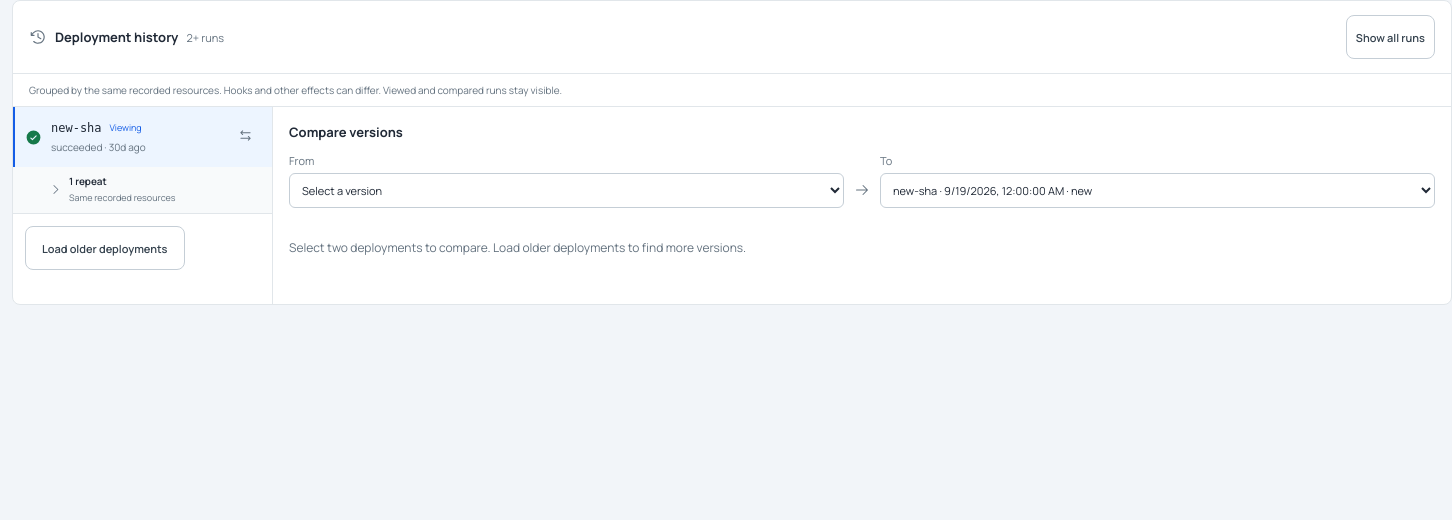
Test: merges repeats across page boundaries and expands each group or all runs without losing raw selectors
expect the link "repeat-1" is not shown: met
Click the button "Load older deployments" at point(105, 248), box [25, 226, 184, 270]
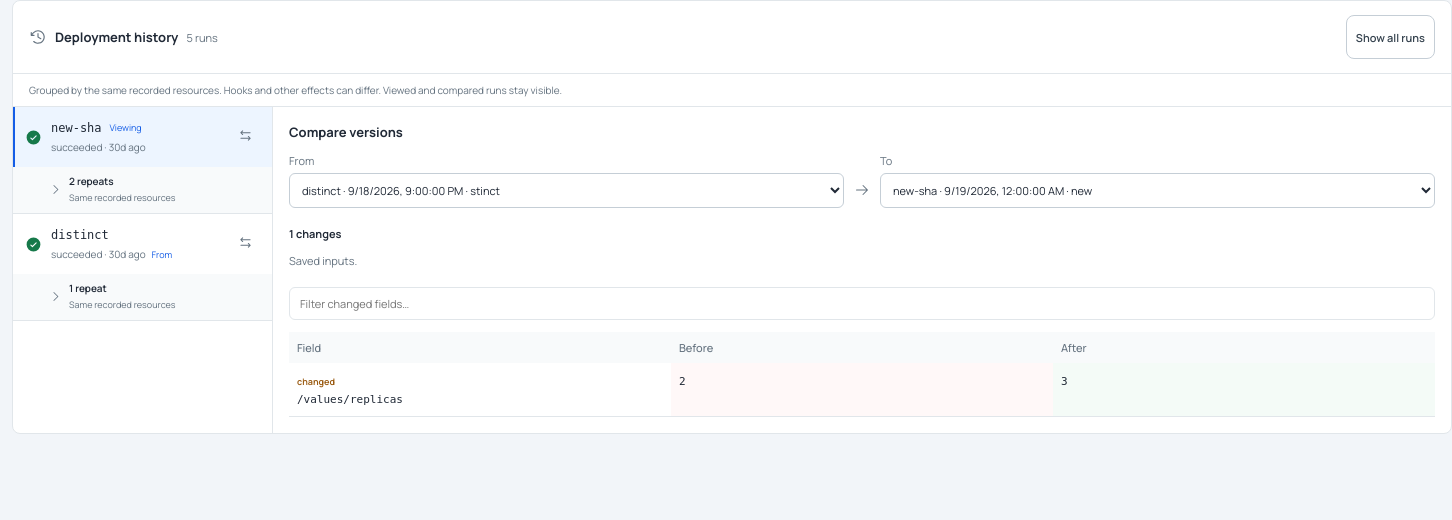
expect the link "repeat-2" is not shown: met
expect the button with aria-label "Show 2 repeats for deployment new" is shown: met
Click the button with aria-label "Show 2 repeats for deployment new" at point(142, 190), box [13, 167, 272, 213]
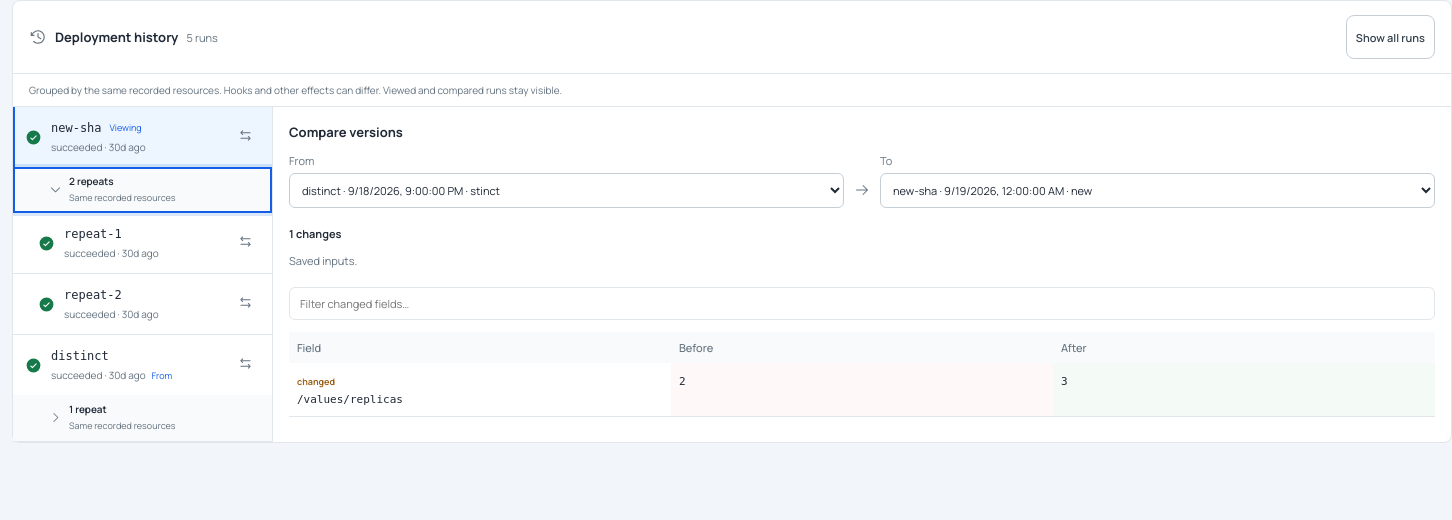
expect the link "repeat-3" is not shown: met
expect the link "repeat-1" is shown: met, box [64, 226, 122, 240]
expect the link "repeat-2" is shown: met, box [64, 288, 122, 302]
Click the button "Show all runs" at point(1390, 37), box [1346, 15, 1435, 59]
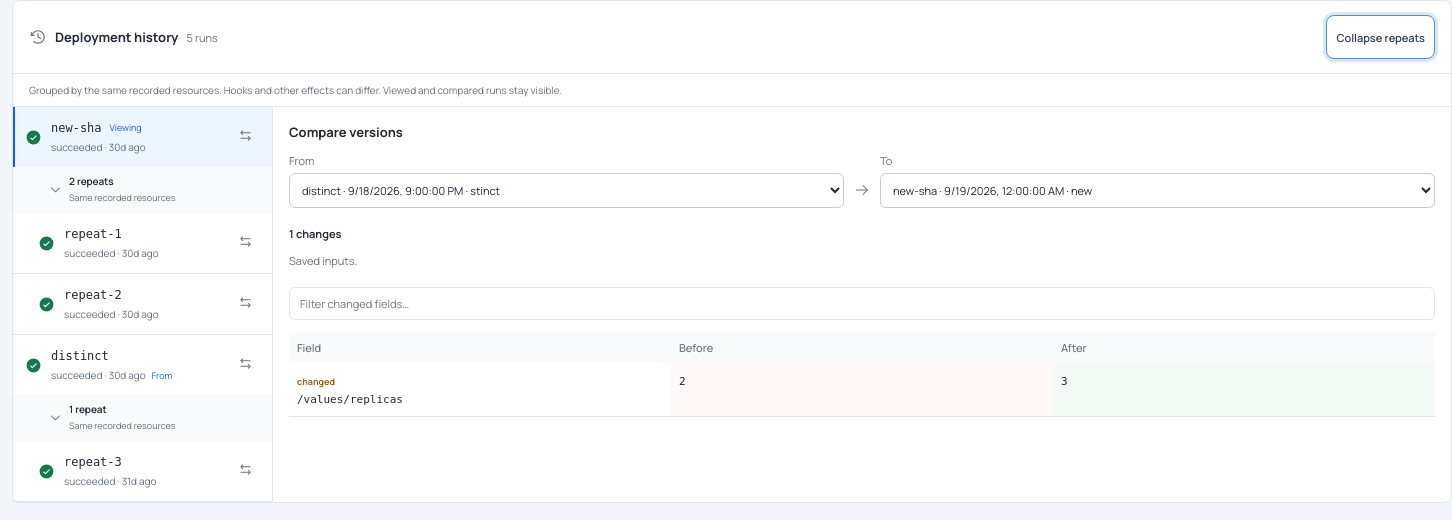
expect the link "repeat-3" is shown: met, box [64, 454, 122, 468]
Click the button with aria-label "Hide 2 repeats for deployment new" at point(142, 190), box [13, 167, 272, 213]
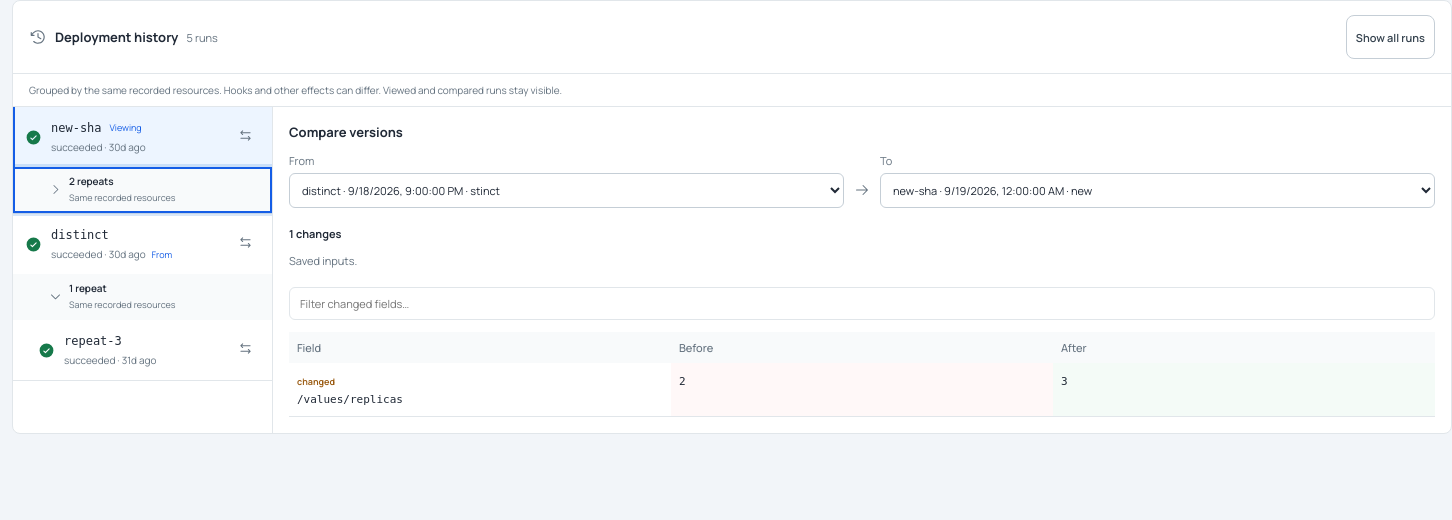
expect the link "repeat-3" is shown: met, box [64, 334, 122, 348]
expect the link "repeat-2" is gone: met
Click the button "Show all runs" at point(1390, 37), box [1346, 15, 1435, 59]
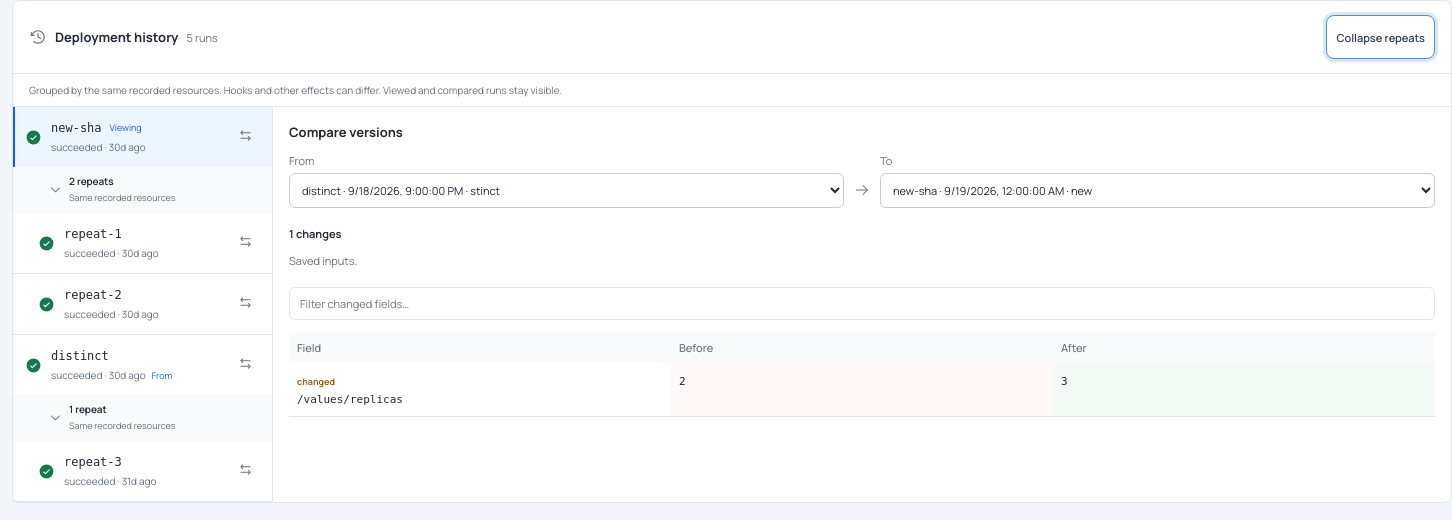
Click the button "Collapse repeats" at point(1381, 37), box [1326, 15, 1435, 59]
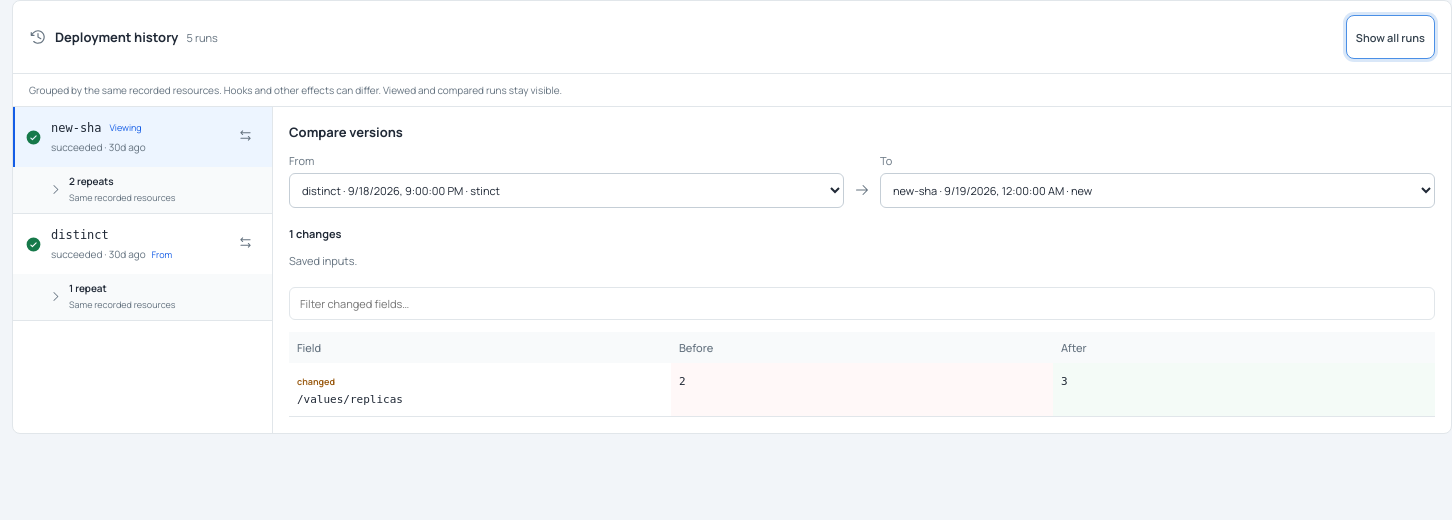
expect the link "repeat-1" is gone: met
expect the link "repeat-3" is gone: met
